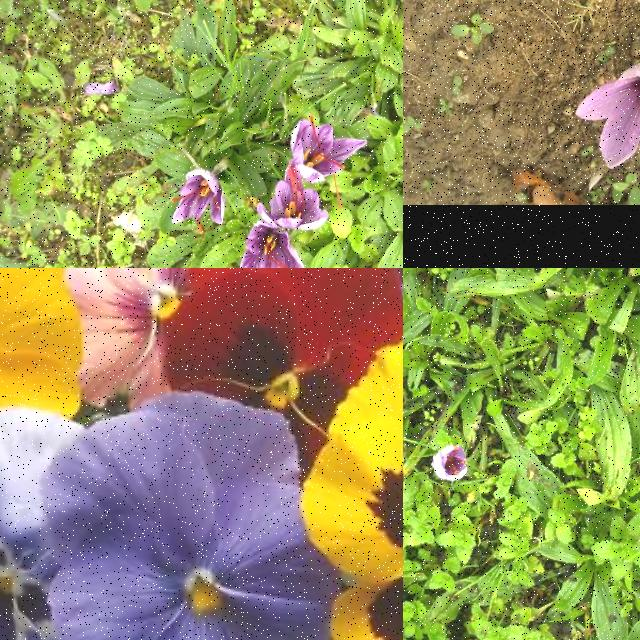flower: (291, 116, 369, 210), (575, 64, 640, 170), (256, 159, 330, 231), (172, 168, 226, 235), (242, 223, 308, 268), (432, 446, 468, 480)
